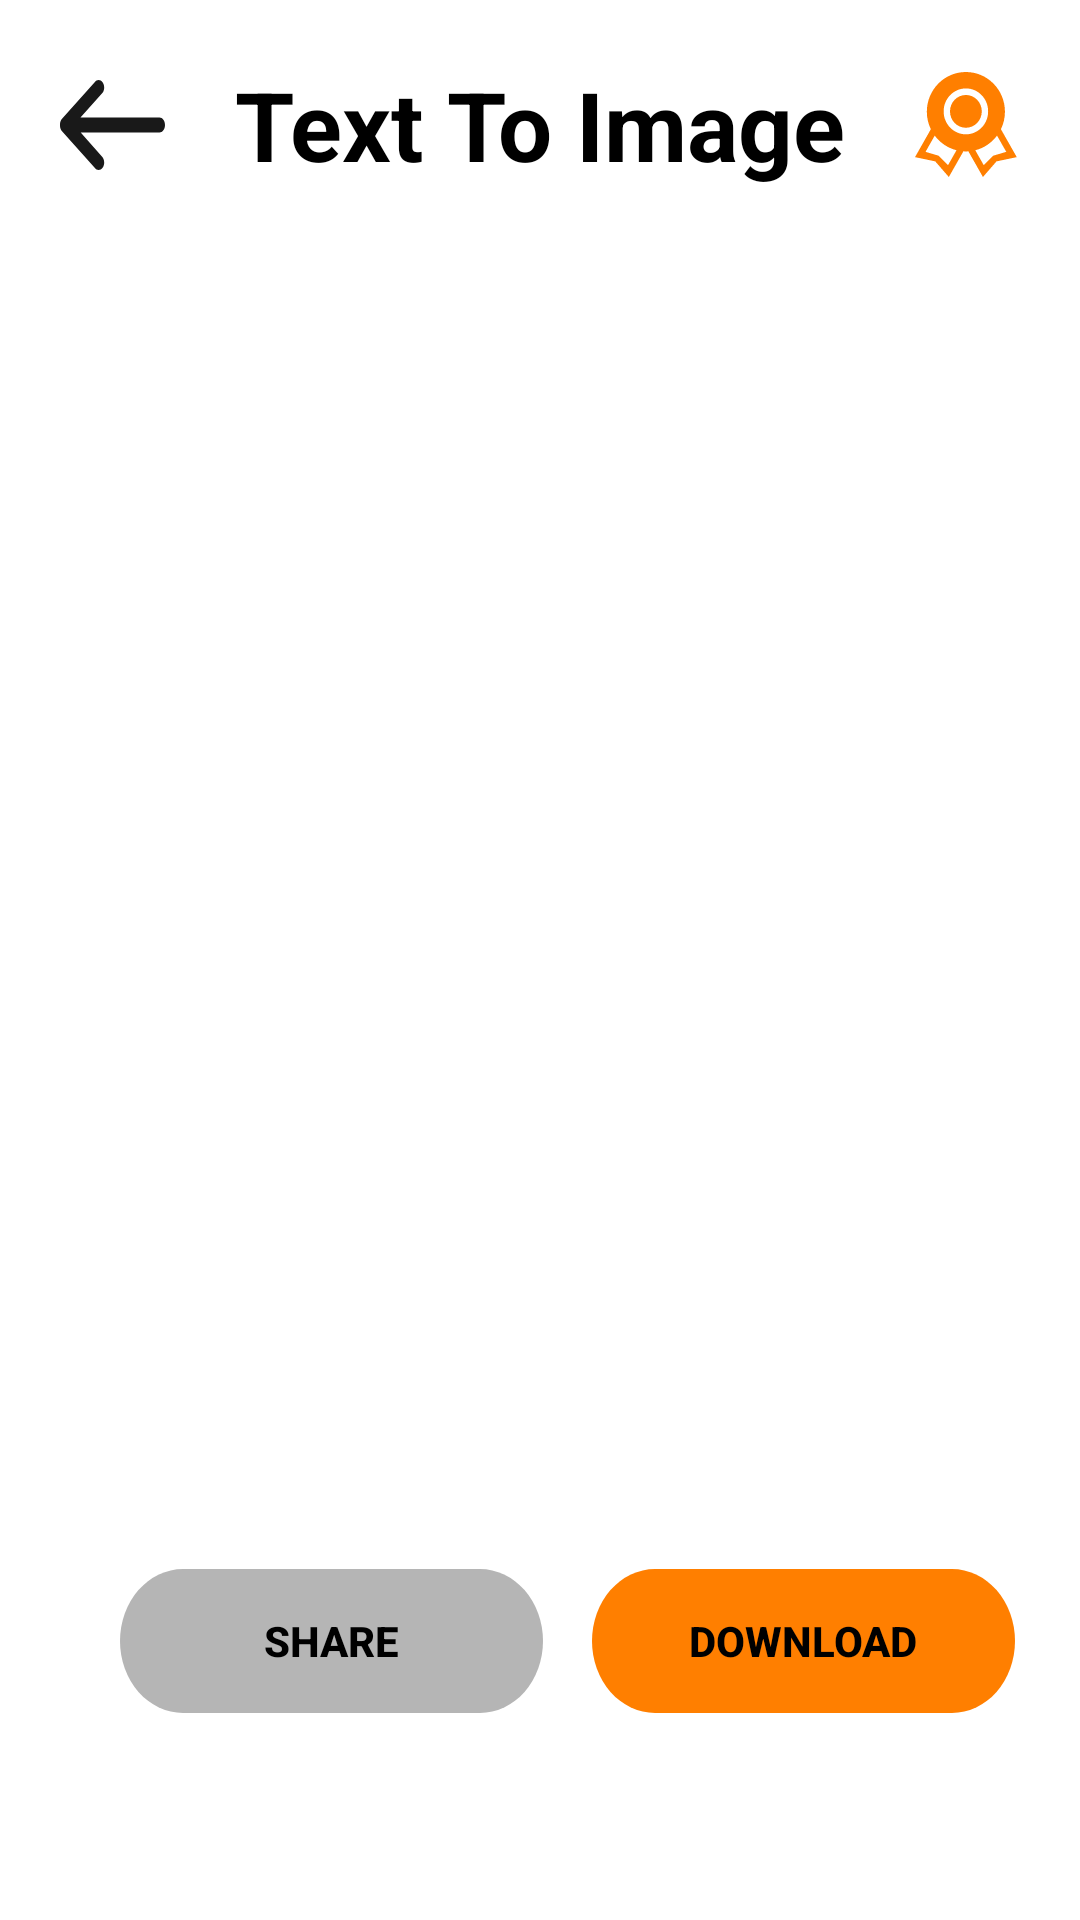

Icons on this 1080×1920 Android screen, each with the point to tap as [x,y]:
pro: [966,124]
